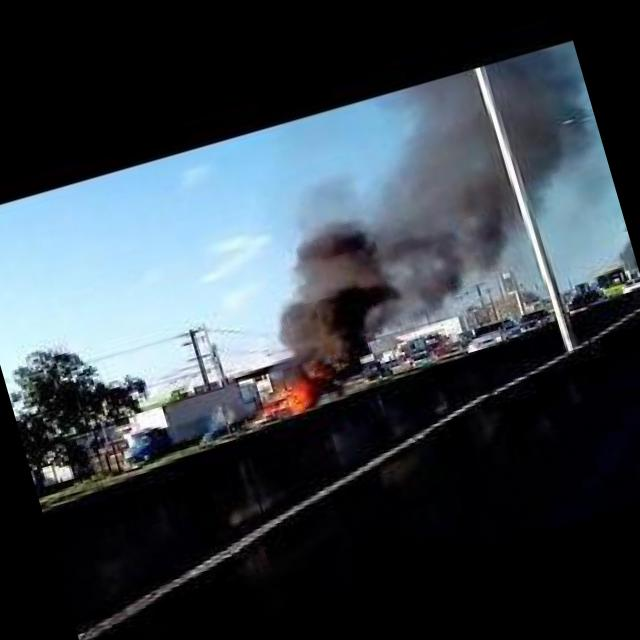fire: (279, 367, 327, 418)
smoke: (212, 48, 619, 377)
